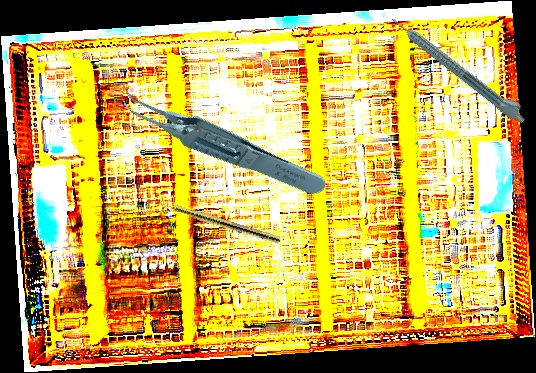Handpiece: (388, 8, 532, 127), (149, 195, 282, 245)
Tissue Forceps: (110, 42, 330, 235)
